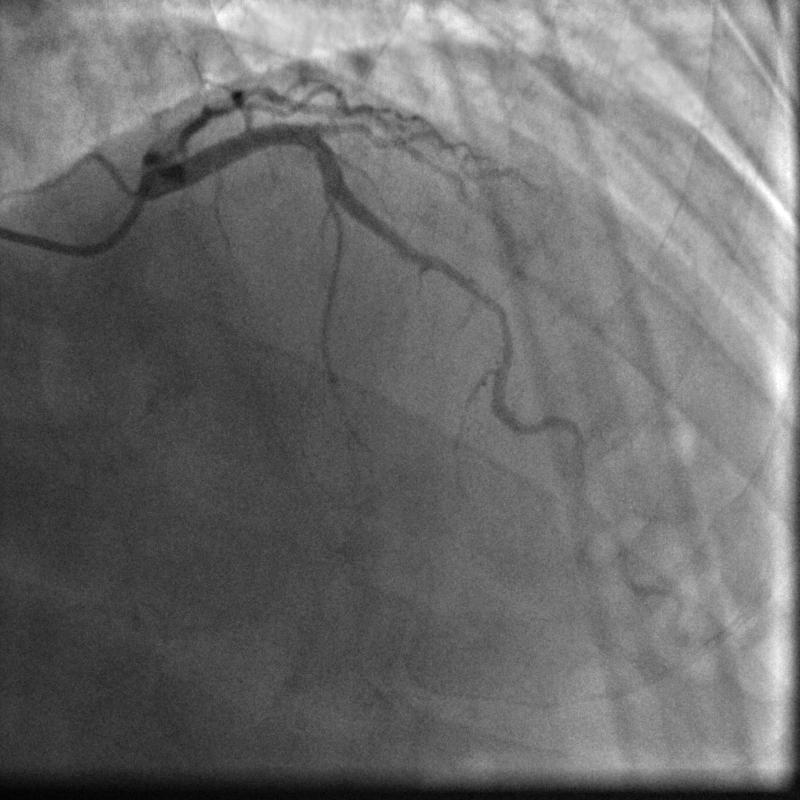Stenosis: (439, 255, 512, 337)
